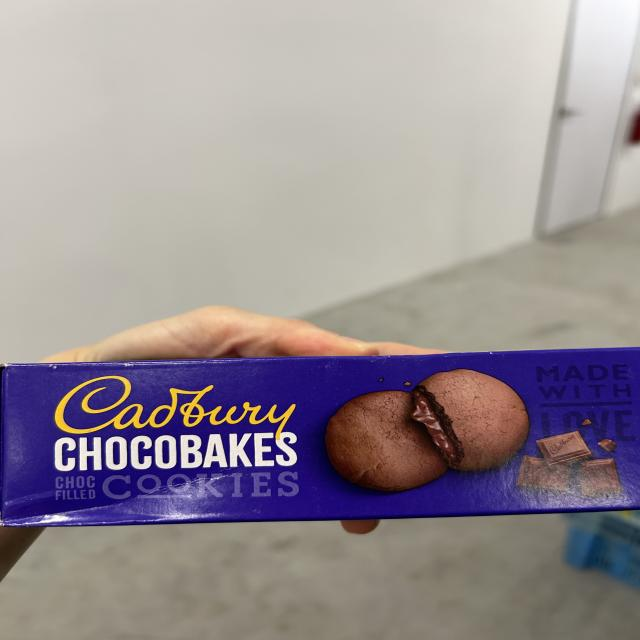object_name: (0, 360, 640, 511)
